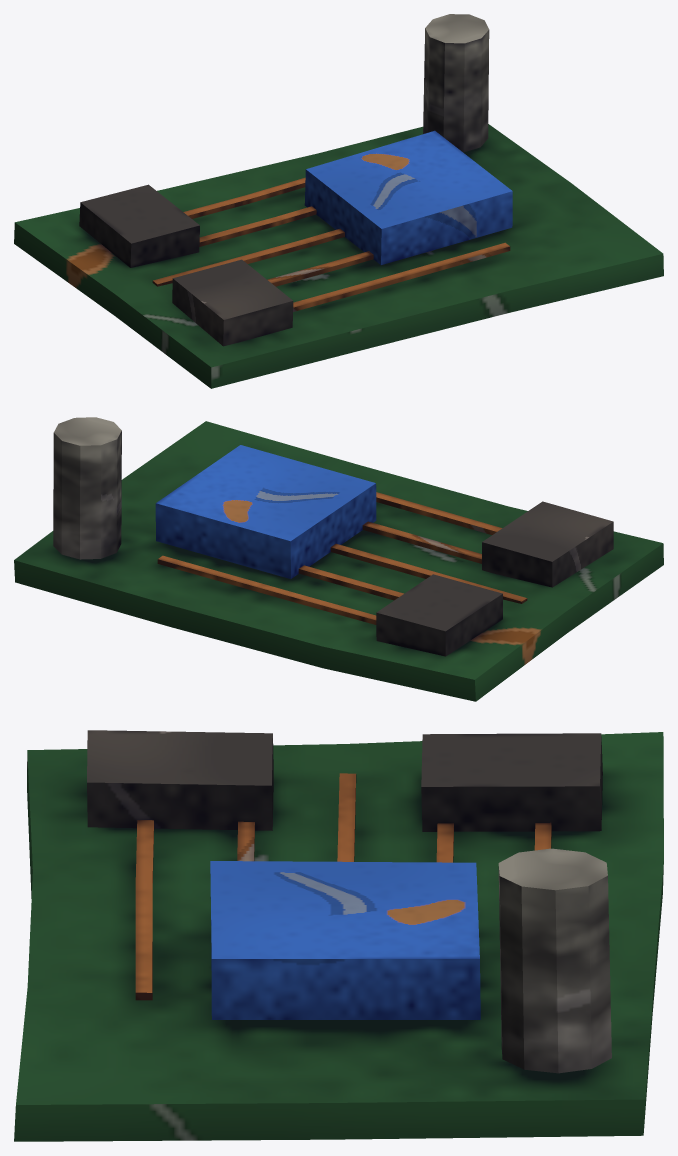
Rendered from CircuitBoard.glb.
3 renders of one model, top to bottom at view 1: azimuth 30°, elevation 25°; view 2: azimuth 150°, elevation 25°; view 3: azimuth 270°, elevation 25°, orthographic. The views are drawn at different scales.
Parts seen in each view (by area): view 1: Board, Chips, Processor, Traces; view 2: Board, Chips, Processor, Traces; view 3: Board, Chips, Processor, Traces.
Part boxes in pixels (left/top/right/bottom): Board: left=14, top=124, right=663, bottom=388; Chips: left=79, top=14, right=489, bottom=346; Processor: left=304, top=130, right=512, bottom=264; Traces: left=152, top=177, right=510, bottom=311; Board: left=14, top=421, right=663, bottom=701; Chips: left=53, top=417, right=613, bottom=656; Processor: left=155, top=445, right=376, bottom=578; Traces: left=157, top=492, right=527, bottom=624; Board: left=14, top=732, right=663, bottom=1141; Chips: left=87, top=730, right=611, bottom=1073; Processor: left=210, top=861, right=480, bottom=1019; Traces: left=135, top=773, right=551, bottom=1000.
Bounding box in the file's own units: 1.1 × 0.3382 × 0.8056.
4 materials, 4 textured.
